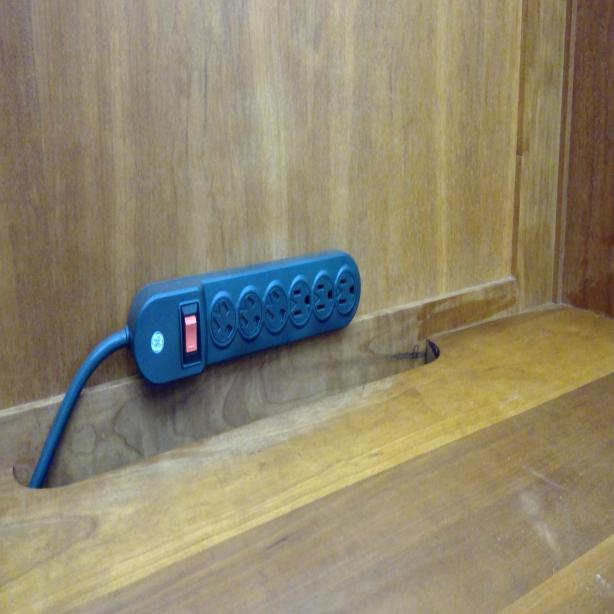typeb: (288, 276, 312, 325), (264, 283, 288, 330), (210, 301, 236, 343), (238, 292, 263, 334), (312, 276, 336, 318), (335, 271, 357, 310)
